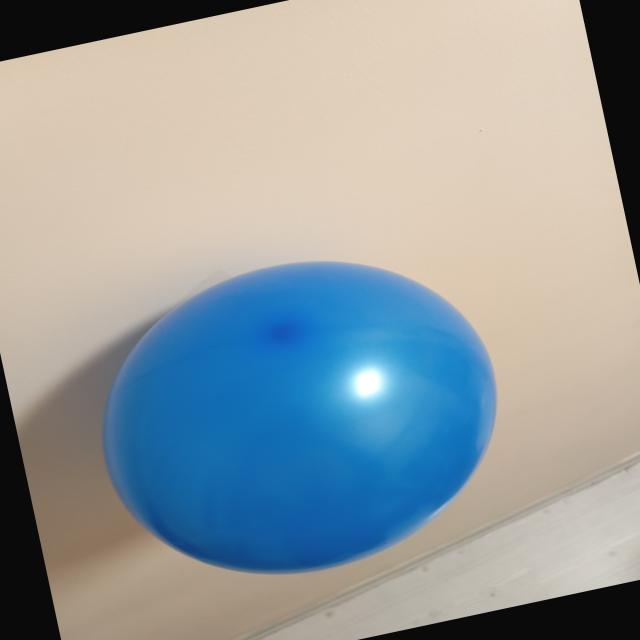balloon: (103, 262, 496, 572)
